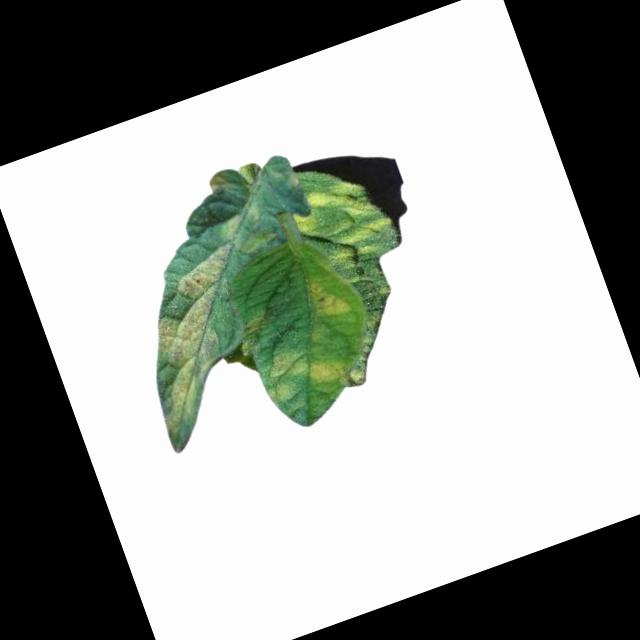Leaf_Mold: (114, 241, 282, 435), (286, 171, 396, 276), (252, 329, 349, 409), (302, 270, 355, 326), (206, 170, 232, 197)
